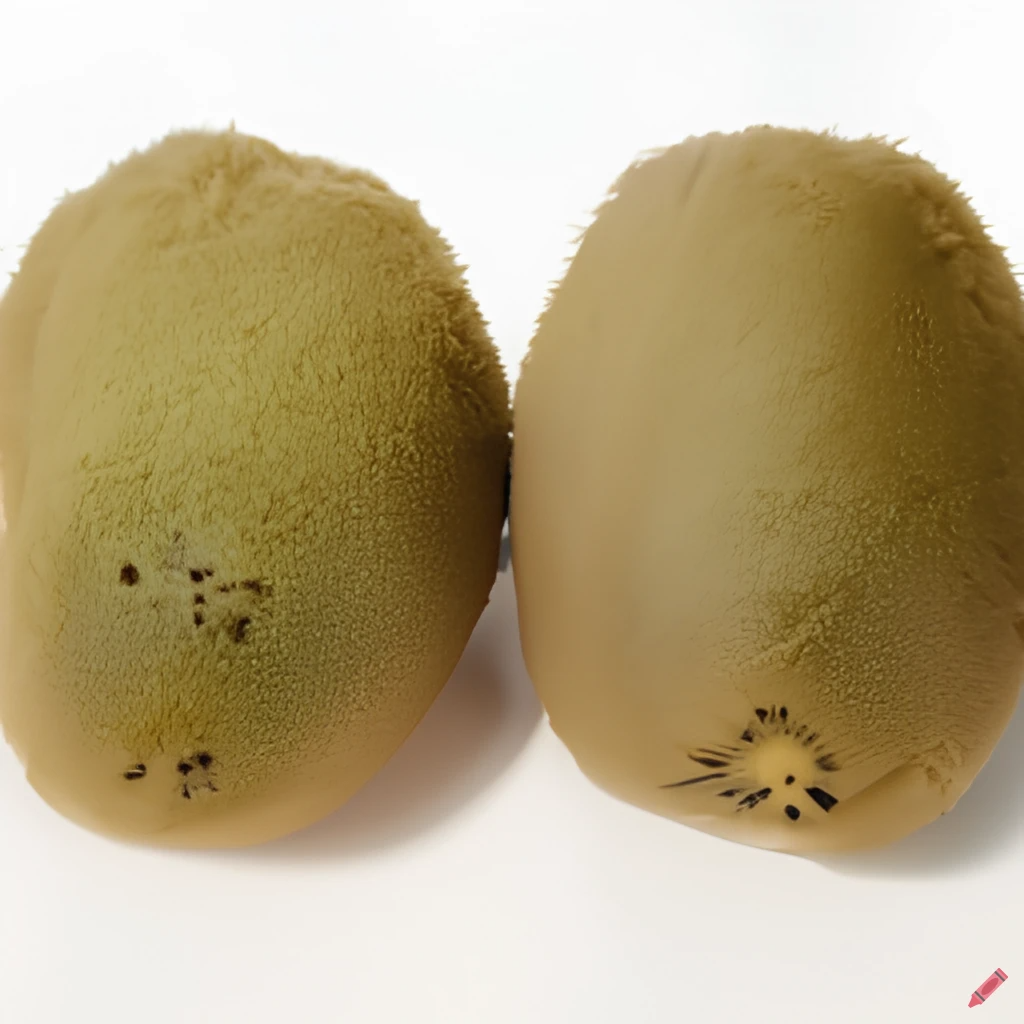Kiwi: (0, 101, 536, 883)
